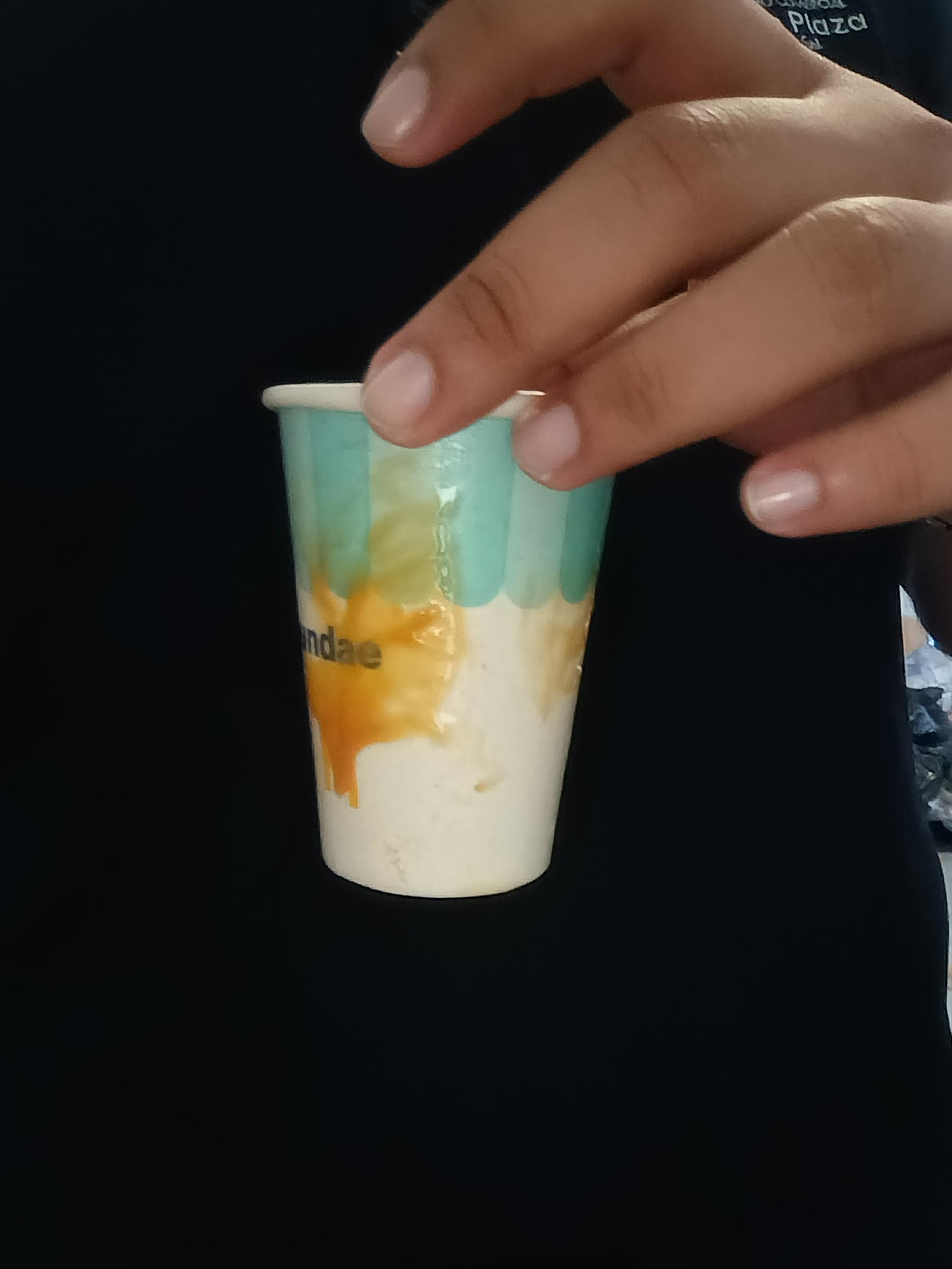Carton: (264, 370, 614, 901)
